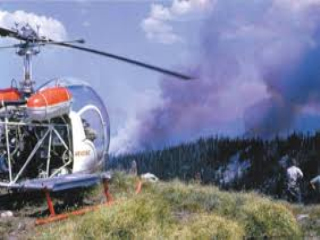smoke: (99, 25, 310, 149)
